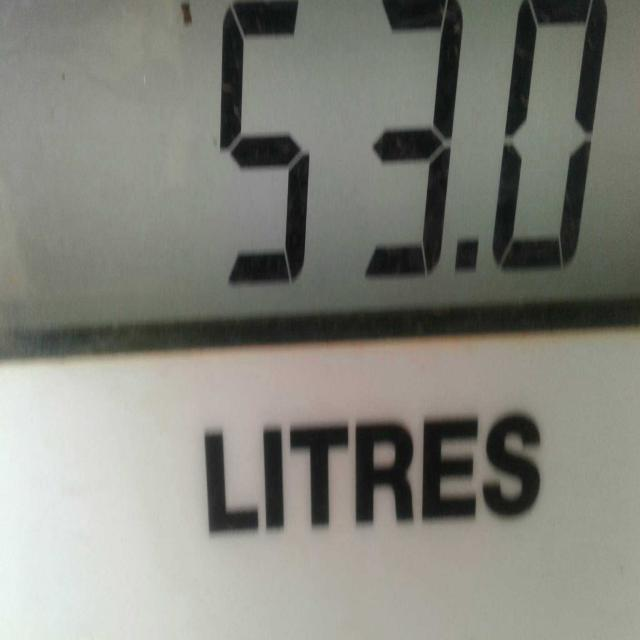.: (448, 219, 487, 289)
0: (489, 0, 614, 290)
3: (361, 0, 461, 304)
5: (202, 0, 329, 294)
